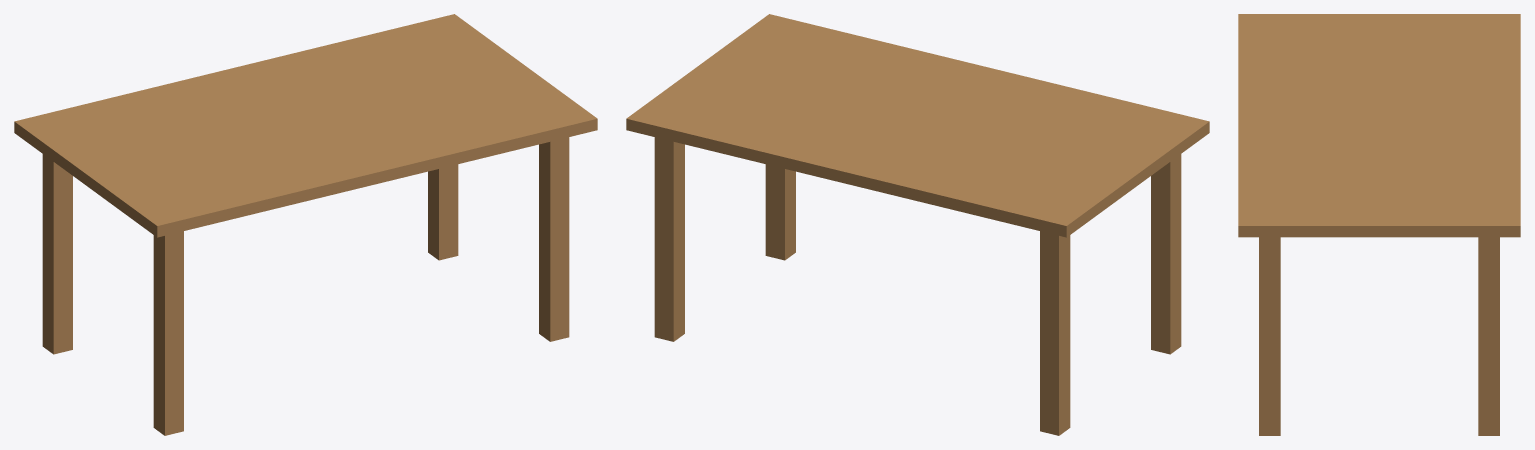
3 views of the same model, side by side, from view 1: azimuth 30°, elevation 25°; view 2: azimuth 150°, elevation 25°; view 3: azimuth 270°, elevation 25° (orthographic).
Parts seen in each view (by area): view 1: mesa_consulta; view 2: mesa_consulta; view 3: mesa_consulta.
Part boxes in pixels (bbox=[...]): mesa_consulta: bbox=[14, 14, 597, 435]; mesa_consulta: bbox=[626, 14, 1209, 435]; mesa_consulta: bbox=[1238, 14, 1520, 435].
Bounding box in the file's own units: 1.6 × 0.9 × 0.77.
